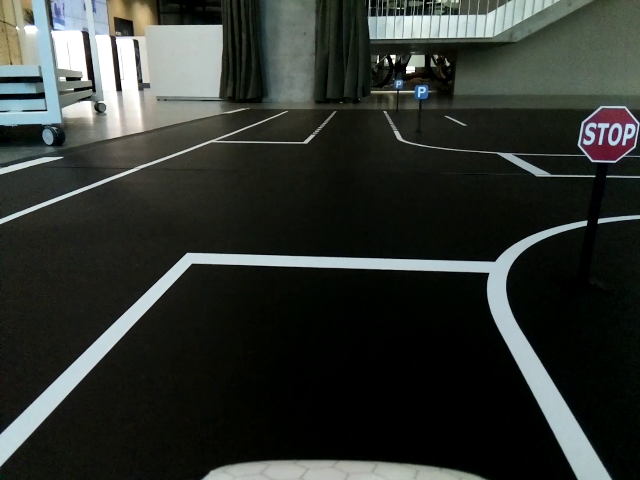stop: (574, 104, 638, 164)
